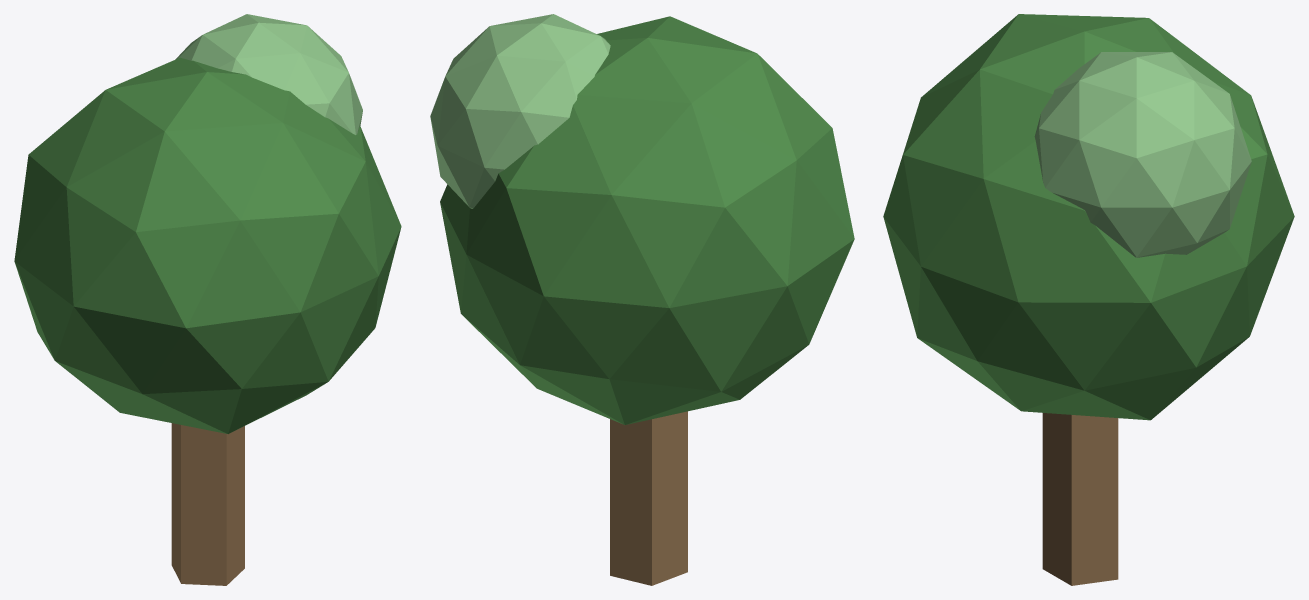
The model's file is round-tree-large.glb.
The picture shows the model from 3 angles, left to right: view 1: azimuth 30°, elevation 25°; view 2: azimuth 150°, elevation 25°; view 3: azimuth 270°, elevation 25°; orthographic projection. The views are drawn at different scales.
Visible parts, largest first — view 1: forest-round-tree-large; view 2: forest-round-tree-large; view 3: forest-round-tree-large.
Part boxes in pixels (left/top/right/bottom): forest-round-tree-large: left=14, top=14, right=401, bottom=585; forest-round-tree-large: left=430, top=14, right=854, bottom=585; forest-round-tree-large: left=883, top=14, right=1294, bottom=585.
Size of the model in its own units: 0.8791 by 1.31 by 0.8853.
